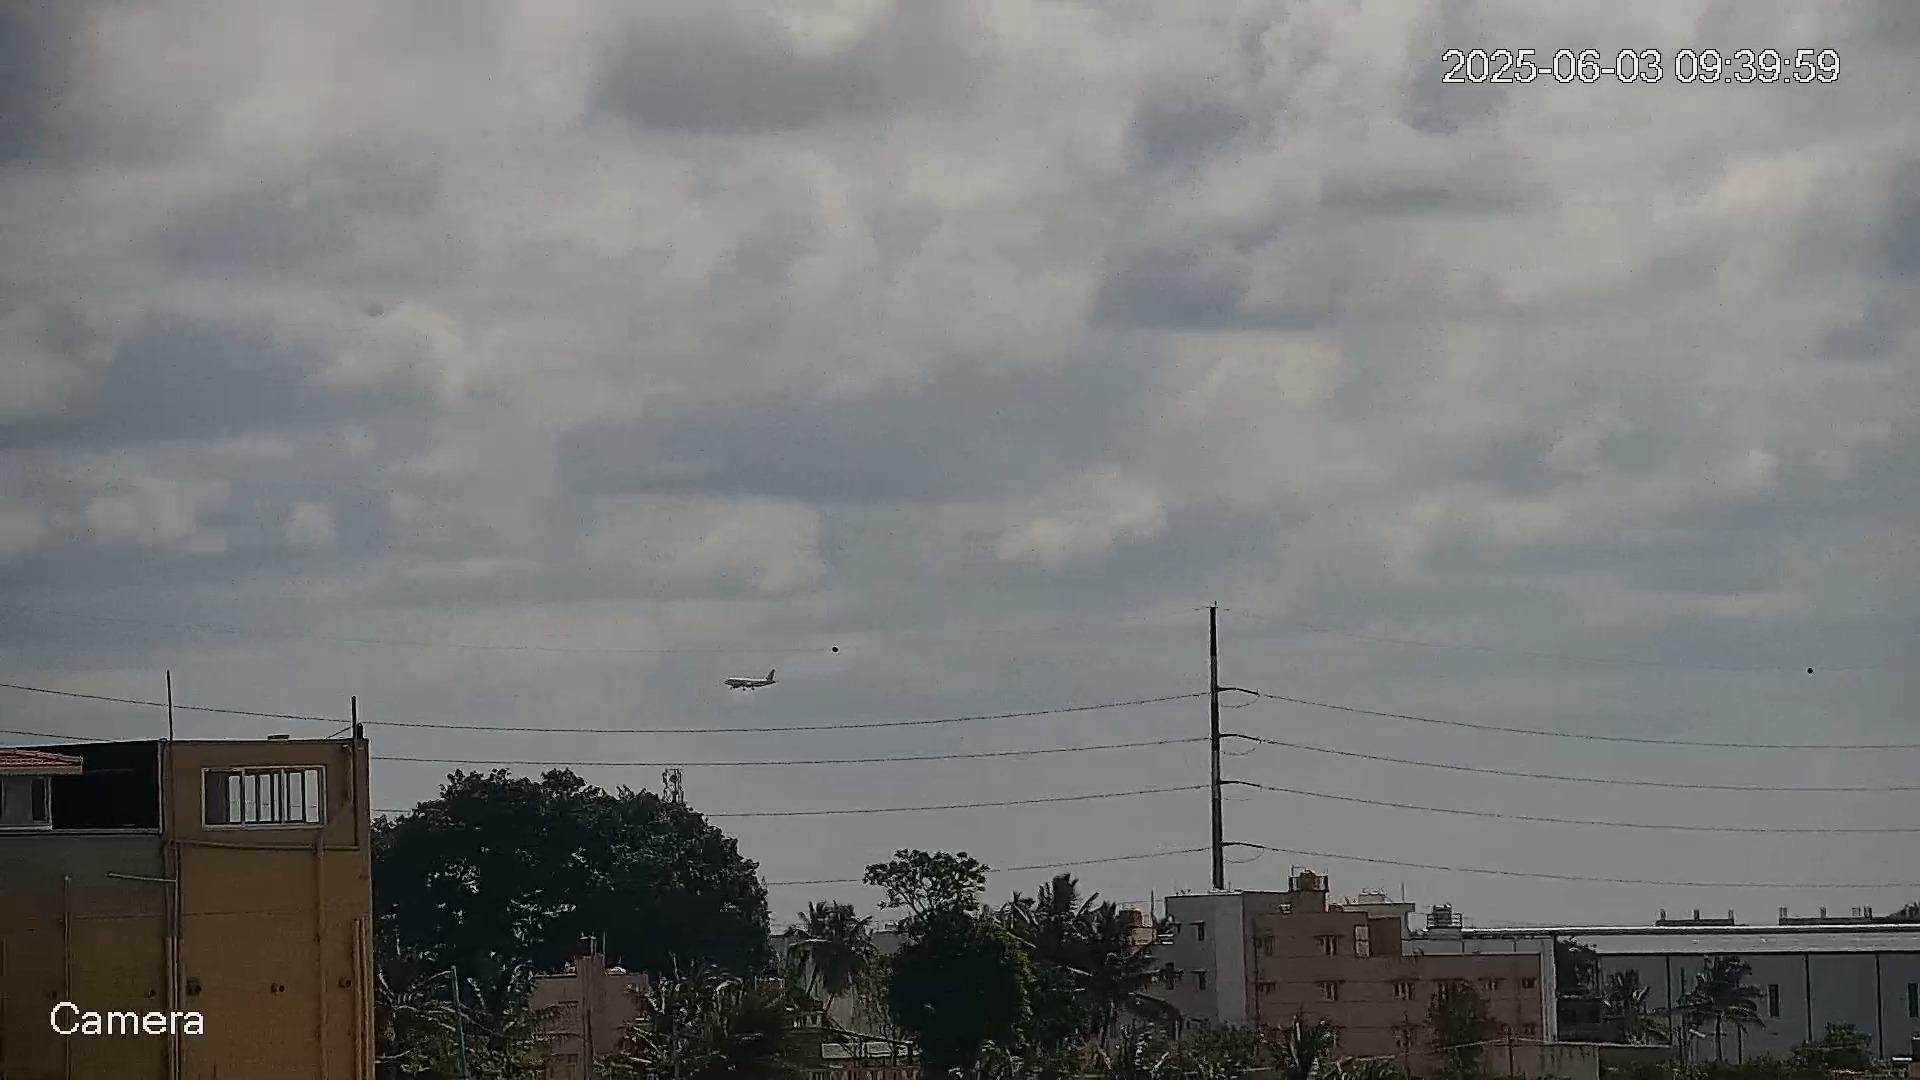Aircraft: (724, 667, 782, 695)
